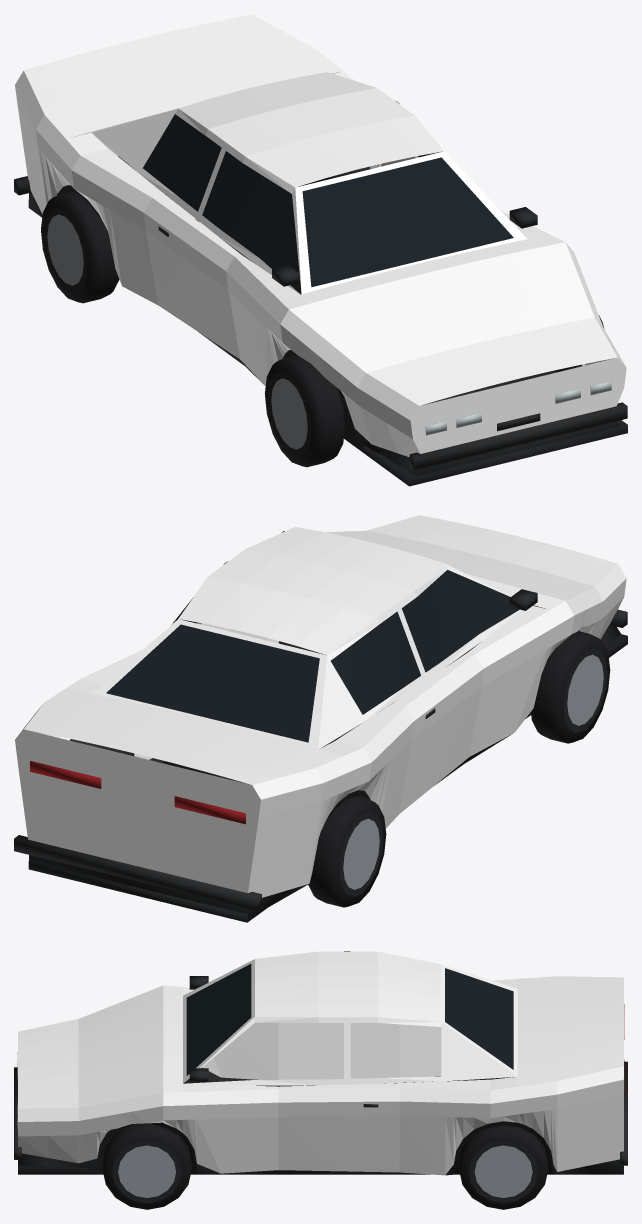
The model's file is ottavo_corte.glb.
The picture shows the model from 3 angles, top to bottom: view 1: azimuth 30°, elevation 25°; view 2: azimuth 150°, elevation 25°; view 3: azimuth 270°, elevation 25°; orthographic projection. The views are drawn at different scales.
Visible parts, largest first — view 1: Body_Paint, Body_Details, Mount_FrontLeft_Wheel_Details, Mount_RearLeft_Wheel_Details; view 2: Body_Paint, Body_Details, Mount_FrontLeft_Wheel_Details, Mount_RearLeft_Wheel_Details; view 3: Body_Paint, Body_Details, Mount_FrontRight_Wheel_Details, Mount_RearRight_Wheel_Details.
Boxes of the visible parts, bbox=[...] form: Body_Paint: bbox=[15, 14, 626, 457]; Body_Details: bbox=[14, 114, 627, 486]; Mount_FrontLeft_Wheel_Details: bbox=[264, 355, 345, 467]; Mount_RearLeft_Wheel_Details: bbox=[41, 191, 119, 303]; Body_Paint: bbox=[15, 515, 626, 897]; Body_Details: bbox=[14, 531, 627, 922]; Mount_FrontLeft_Wheel_Details: bbox=[531, 631, 610, 743]; Mount_RearLeft_Wheel_Details: bbox=[308, 795, 386, 907]; Body_Paint: bbox=[18, 951, 623, 1175]; Body_Details: bbox=[14, 964, 627, 1175]; Mount_FrontRight_Wheel_Details: bbox=[102, 1123, 191, 1209]; Mount_RearRight_Wheel_Details: bbox=[459, 1125, 548, 1209].
Size of the model in its own units: 1.88 by 1.3 by 4.18.
2 materials, 1 textured.
